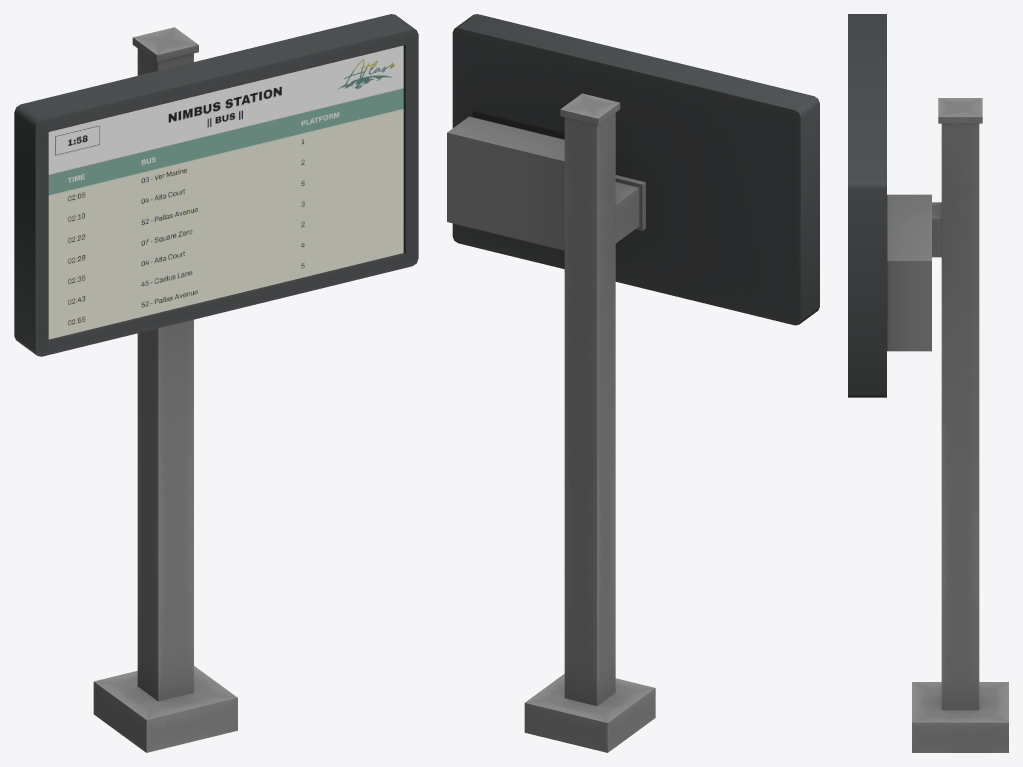
The model's file is station screen.fbx.
3 views of the same model, side by side, from view 1: azimuth 30°, elevation 25°; view 2: azimuth 150°, elevation 25°; view 3: azimuth 270°, elevation 25° (orthographic). The views are drawn at different scales.
Visible parts, largest first — view 1: Cube; view 2: Cube; view 3: Cube.
Boxes of the visible parts, x1,y1,x2,y2 form: Cube: [14, 14, 418, 752]; Cube: [447, 14, 819, 752]; Cube: [848, 14, 1008, 752].
Bounding box in the file's own units: 400 × 692 × 159.
